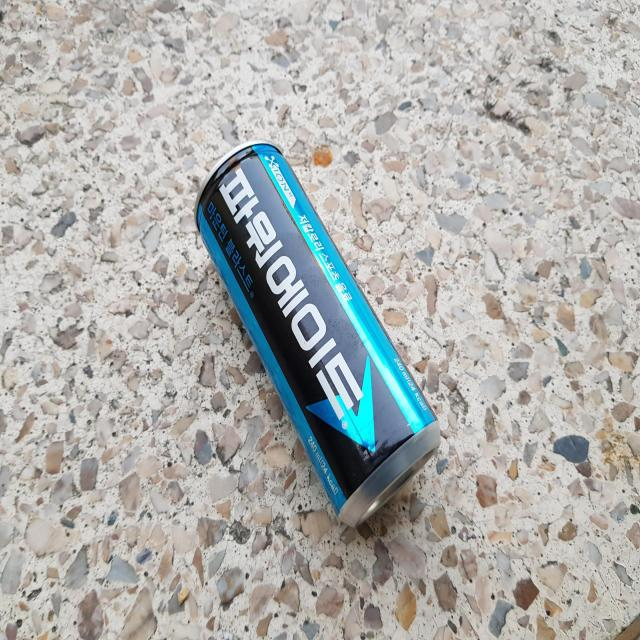can: (195, 140, 441, 527)
